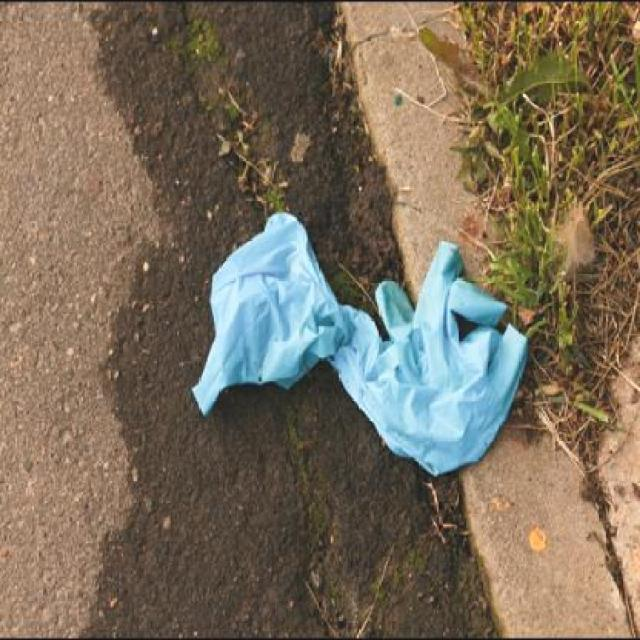glove: (334, 218, 540, 522), (188, 192, 342, 431)
